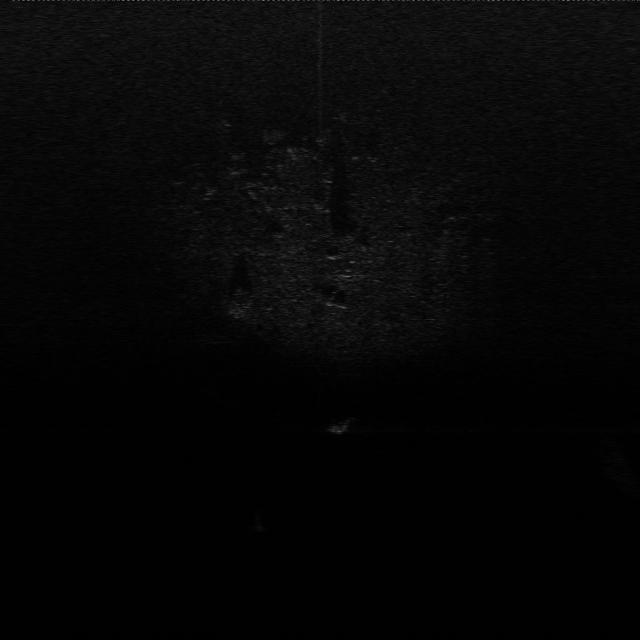square cage: (324, 410, 360, 436)
